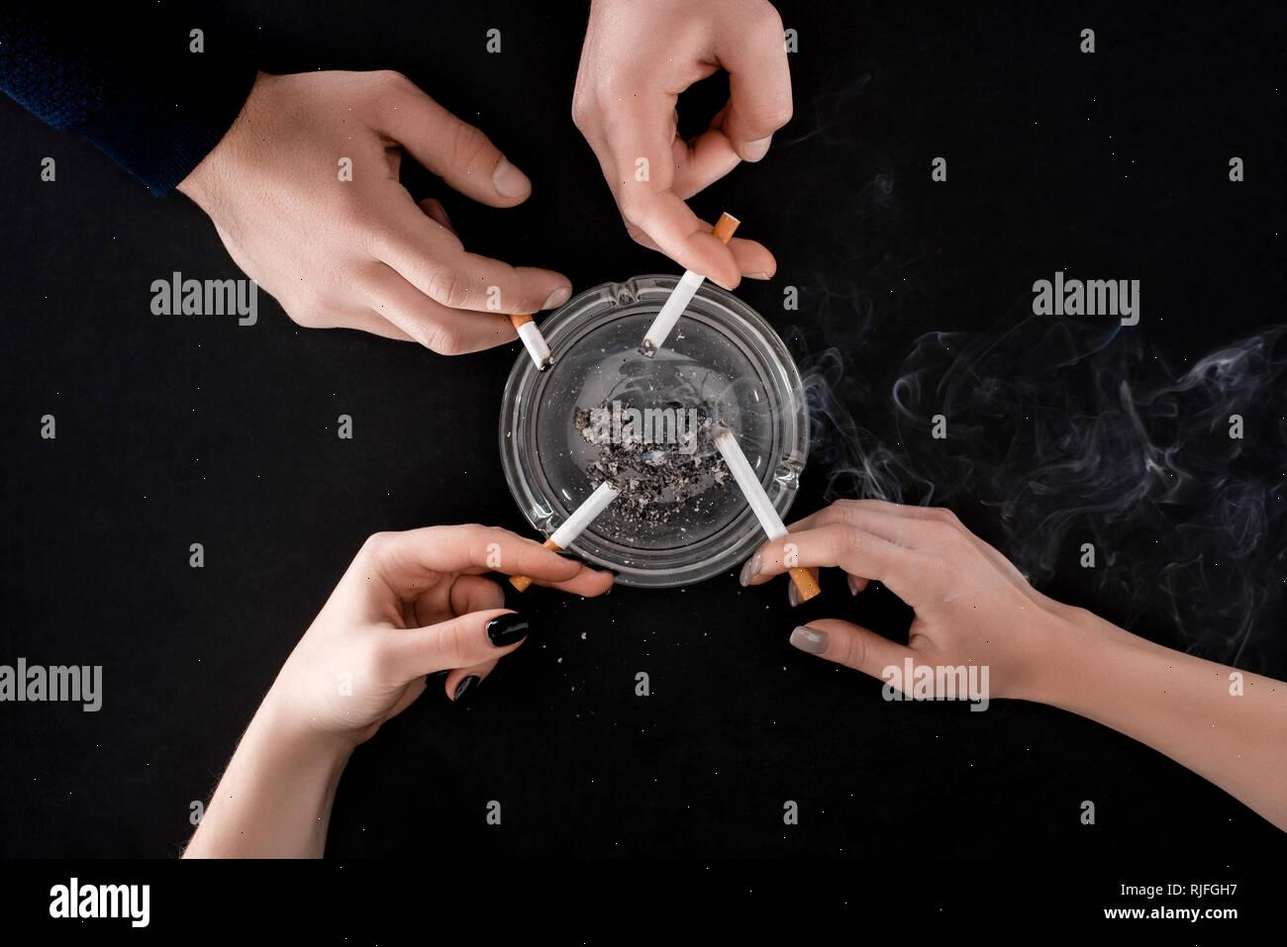cigarette: (715, 429, 787, 539), (643, 270, 703, 356)
